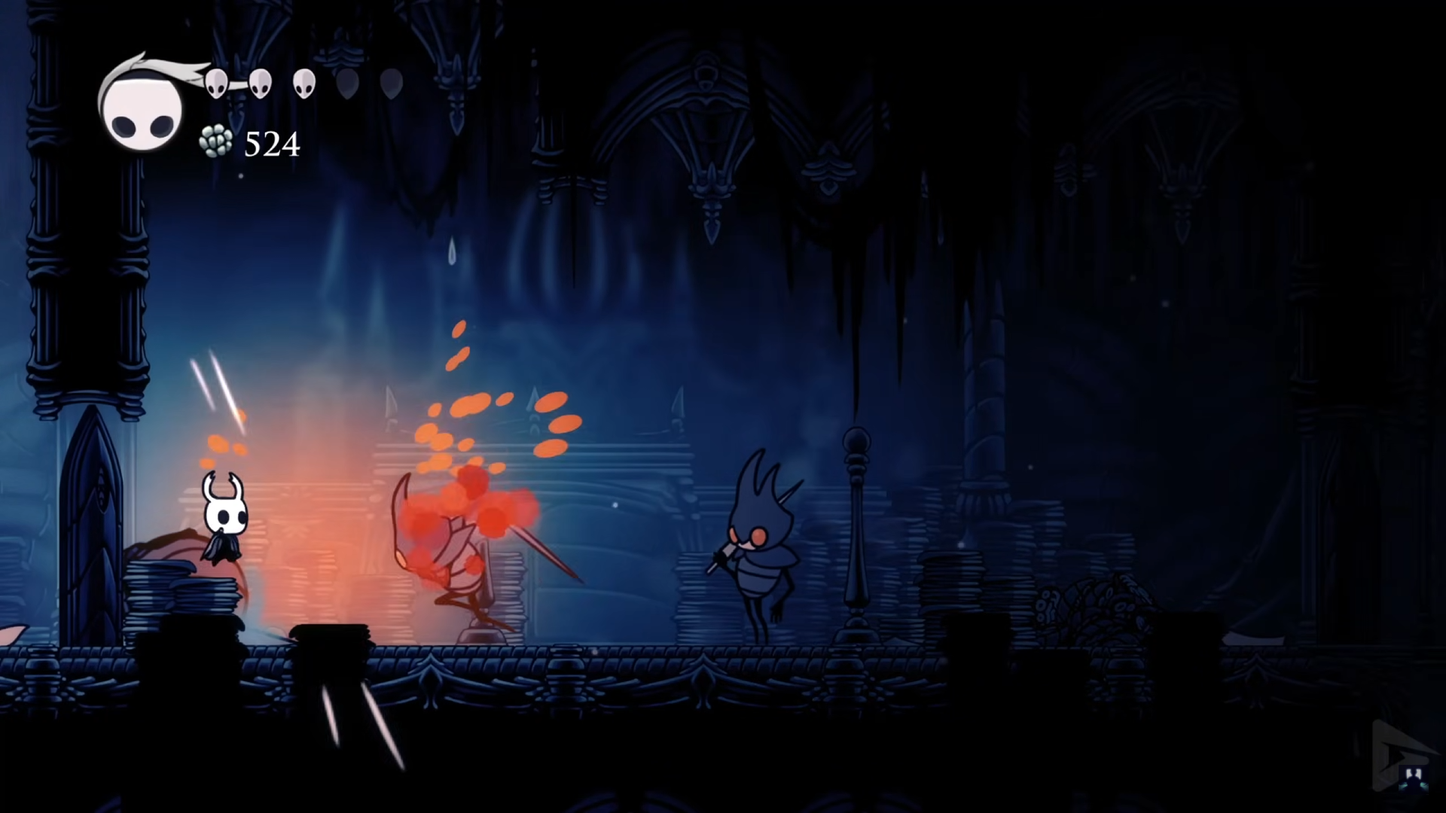HK: (191, 466, 255, 573)
